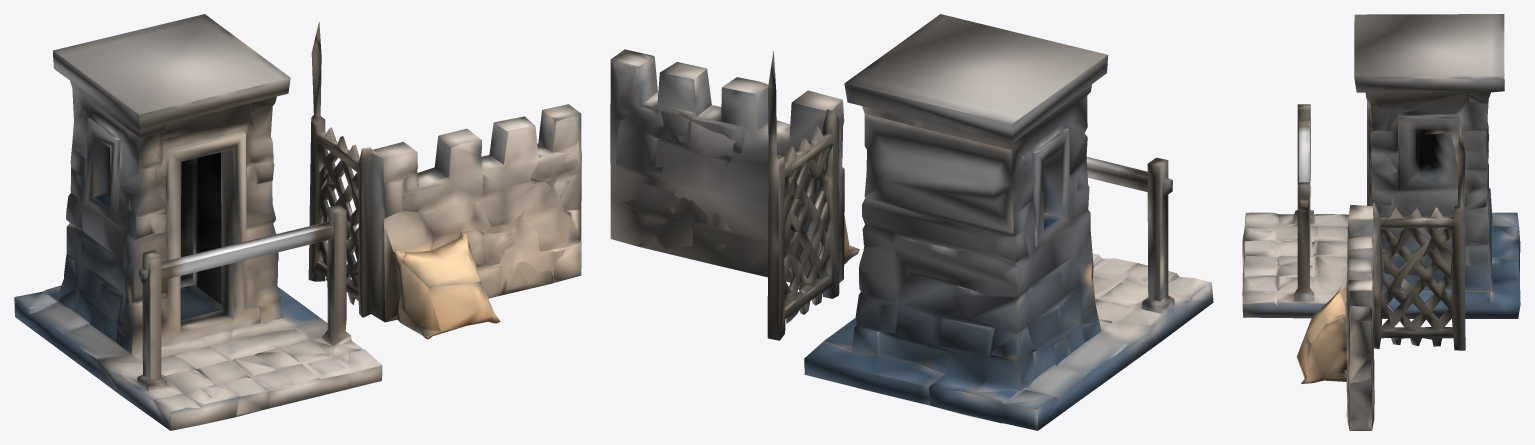
File: kontrol.glb
3 renders of one model, left to right at view 1: azimuth 30°, elevation 25°; view 2: azimuth 150°, elevation 25°; view 3: azimuth 270°, elevation 25°, orthographic. The views are drawn at different scales.
Visible parts, largest first — view 1: node_0; view 2: node_0; view 3: node_0.
Boxes of the visible parts, x1,y1,x2,y2 form: node_0: (14, 14, 581, 430); node_0: (610, 14, 1213, 430); node_0: (1242, 14, 1520, 430).
Size of the model in its own units: 0.9506 by 0.519 by 0.5595.
1 material, 1 textured.
